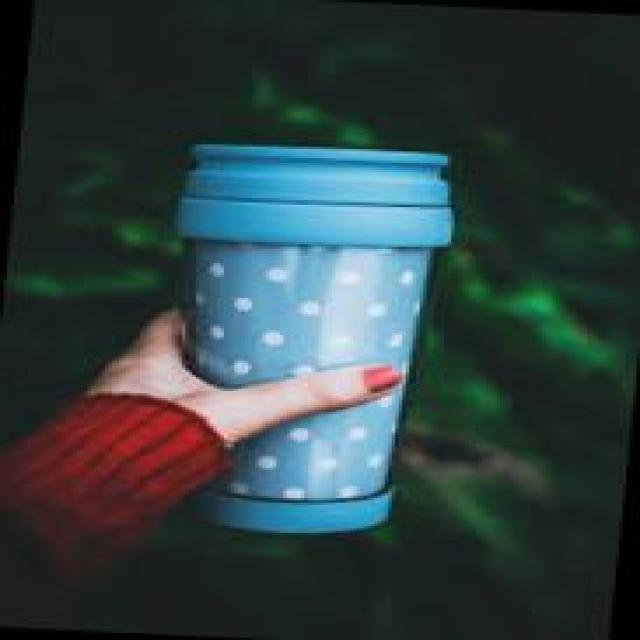bottle: (126, 130, 458, 538)
